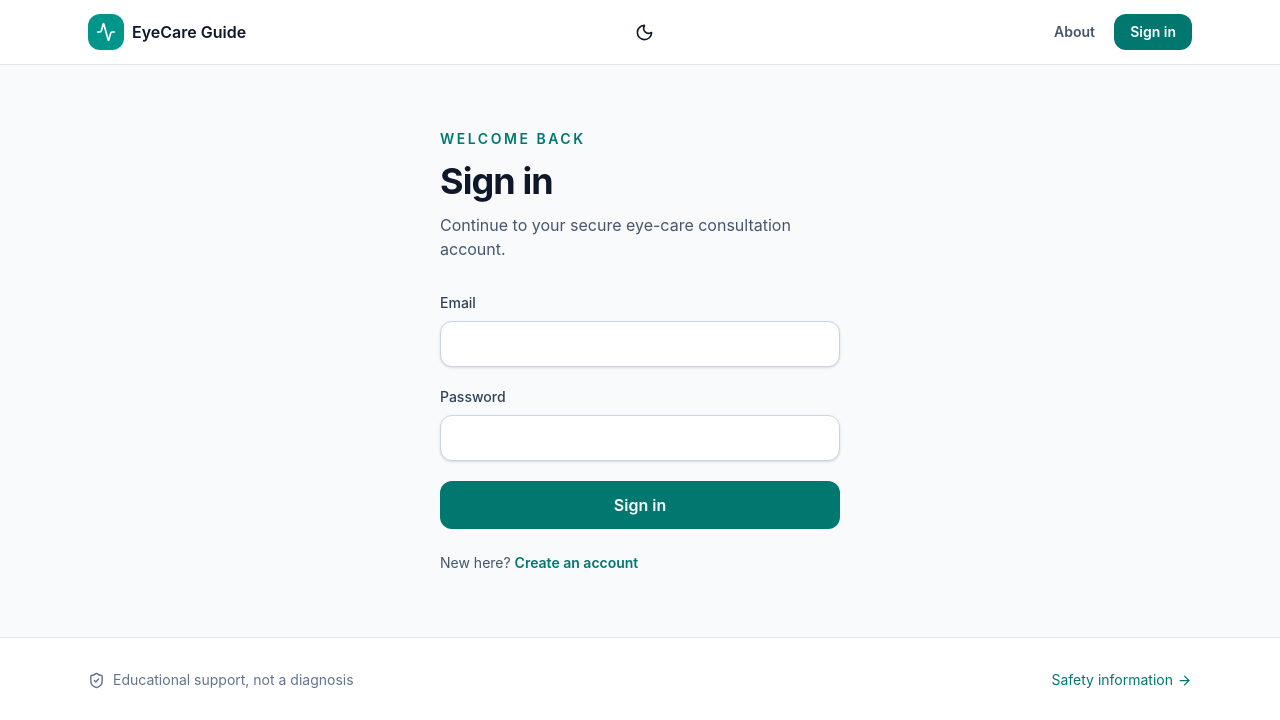
Test case: App authentication experience › logs in and displays the protected dashboard
Expected: the heading "Sign in" is shown, [440,159,553,203]
Type "patient@example.com" into the field labelled "Email" at (640, 344), box [440,321,840,367]
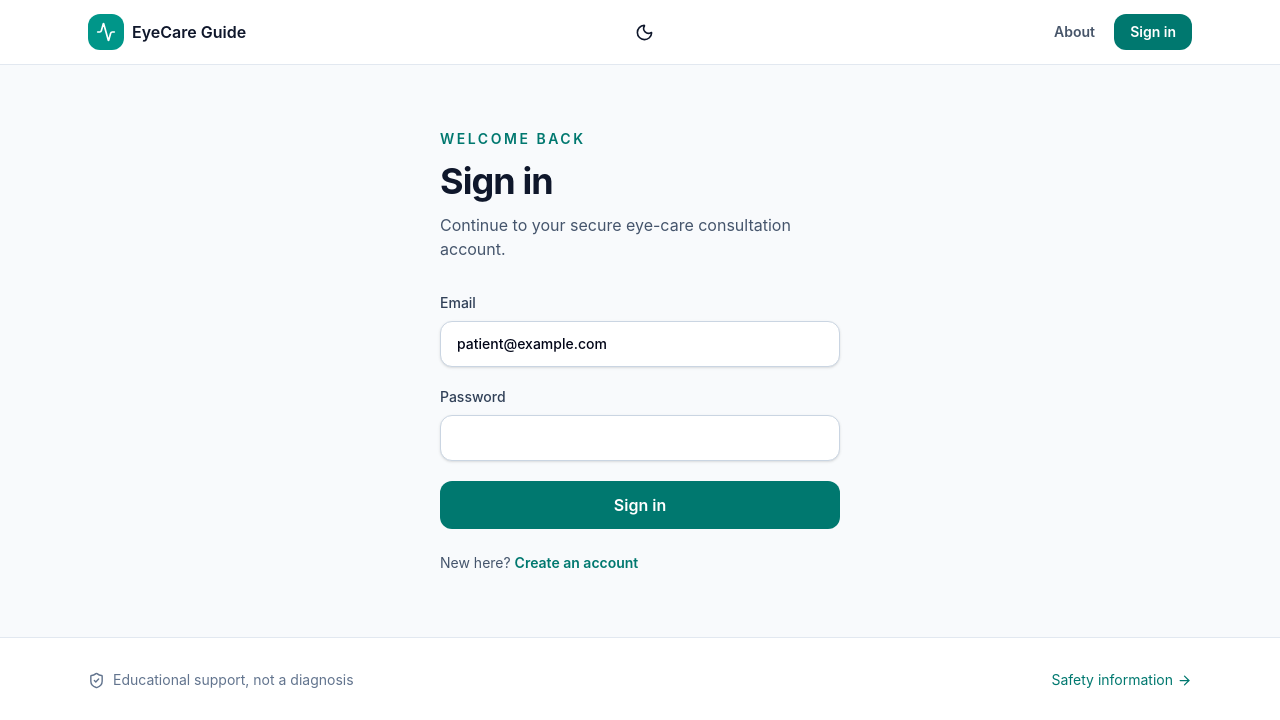
Type "a secure test password" into the password field labelled "Password" at (640, 438), box [440,415,840,461]
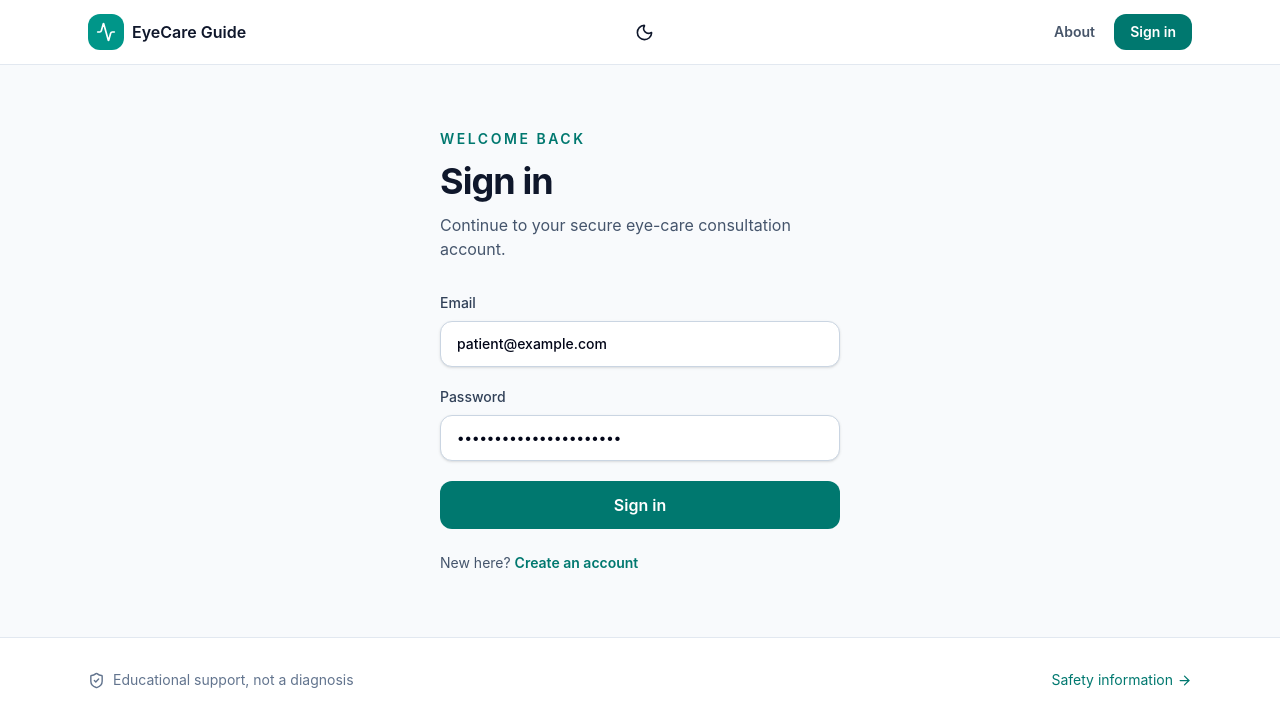
Click the button "Sign in" at (640, 505), box [440,481,840,529]
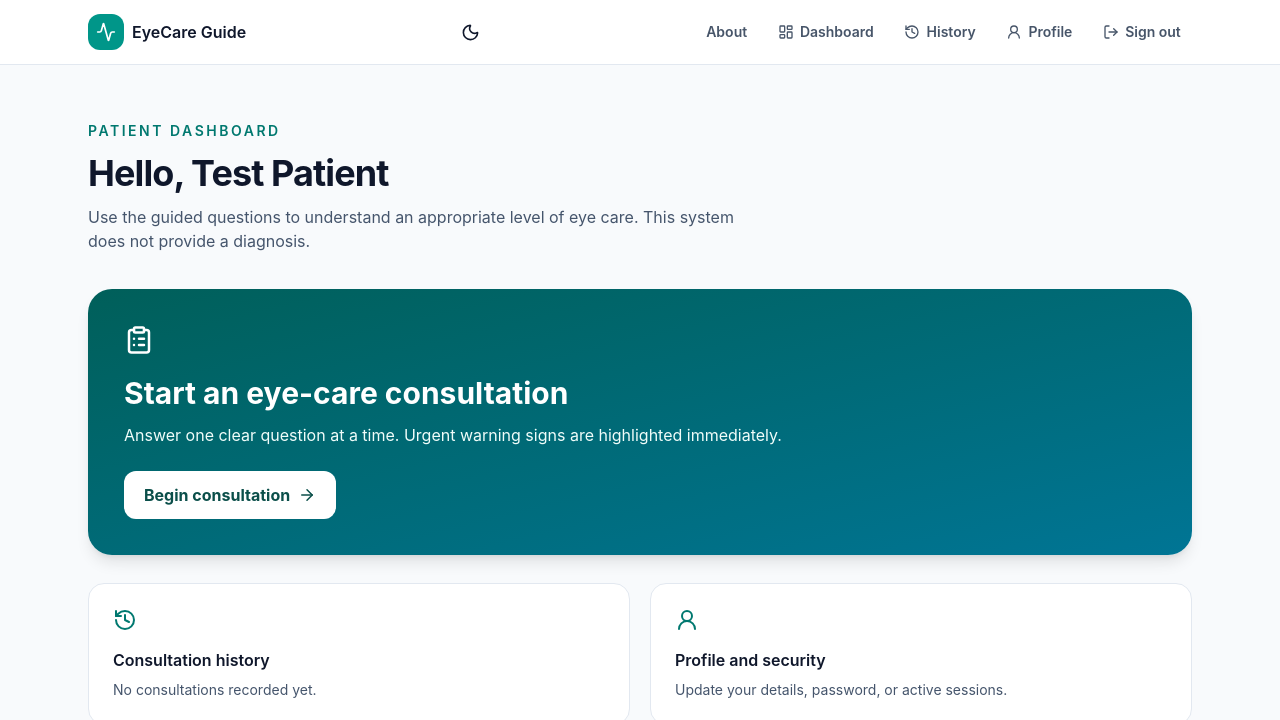
Expected: the heading "Hello, Test Patient" is shown, [88,151,389,195]
